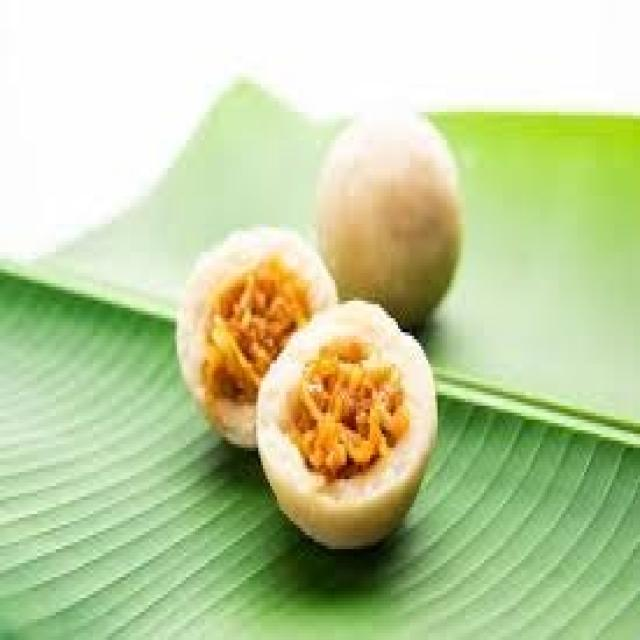poorna kolukattai: (157, 101, 515, 583)
